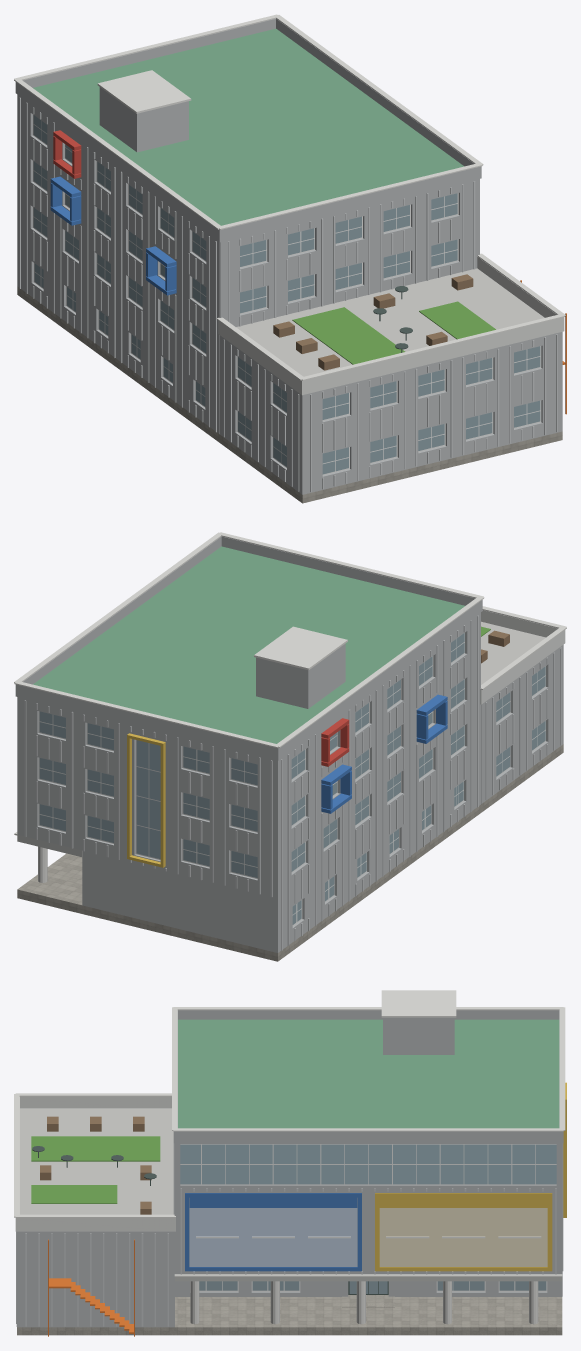
3 renders of one model, top to bottom at view 1: azimuth 30°, elevation 25°; view 2: azimuth 150°, elevation 25°; view 3: azimuth 270°, elevation 25°, orthographic. The views are drawn at different scales.
Parts seen in each view (by area): view 1: west__metal, west__greenroof, west__glass, west__rib, west__deck, west__cap, west__whiteroof, west__whiteframe, west__stone, west__turf, west__bluebox, west__planter (+1 smaller); view 2: west__metal, west__greenroof, west__rib, west__glass, west__cap, west__stone, west__whiteframe, west__stairglass, west__bluebox, west__whiteroof, west__deck, west__yellow (+1 smaller); view 3: west__greenroof, west__metal, west__curtainglass, west__stone, west__deck, west__bannercream, west__bannerblue, west__cap, west__turf, west__yellow, west__whiteroof, west__bluebox (+7 smaller).
Boxes of the visible parts, box(x1,y1,x2,y2) form: west__metal: box(15, 19, 562, 494); west__greenroof: box(33, 28, 463, 225); west__glass: box(33, 115, 540, 474); west__rib: box(19, 97, 557, 492); west__deck: box(236, 268, 544, 376); west__cap: box(14, 14, 565, 380); west__whiteroof: box(218, 256, 564, 395); west__whiteframe: box(33, 114, 541, 475); west__stone: box(17, 286, 562, 503); west__turf: box(292, 301, 495, 364); west__bluebox: box(50, 176, 176, 295); west__planter: box(273, 274, 473, 370); west__metal: box(15, 536, 563, 952); west__greenroof: box(33, 546, 464, 743); west__rib: box(24, 615, 561, 950); west__glass: box(39, 633, 545, 924); west__cap: box(14, 532, 566, 835); west__stone: box(17, 744, 563, 961); west__whiteframe: box(38, 633, 545, 925); west__stairglass: box(136, 740, 160, 858); west__bluebox: box(321, 694, 447, 813); west__whiteroof: box(480, 610, 565, 704); west__deck: box(481, 621, 545, 684); west__yellow: box(127, 733, 165, 867); west__greenroof: box(178, 1019, 559, 1128); west__metal: box(16, 1010, 563, 1327); west__curtainglass: box(180, 1144, 556, 1184); west__stone: box(17, 1295, 562, 1335); west__deck: box(20, 1108, 173, 1214); west__bannercream: box(379, 1208, 547, 1266); west__bannerblue: box(189, 1208, 357, 1266); west__cap: box(14, 990, 565, 1276); west__turf: box(31, 1136, 160, 1203); west__yellow: box(375, 1082, 566, 1271); west__whiteroof: box(15, 1097, 175, 1231); west__bluebox: box(185, 1193, 361, 1271).
Bounding box in the file's own units: 22.34 × 18.08 × 38.52.
23 materials, 2 textured.
